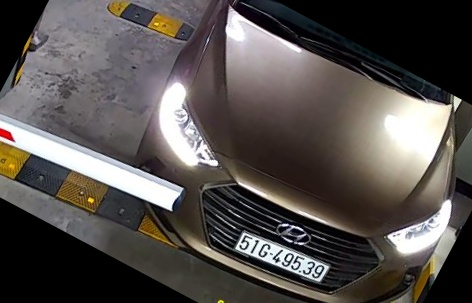plate: (232, 226, 333, 284)
